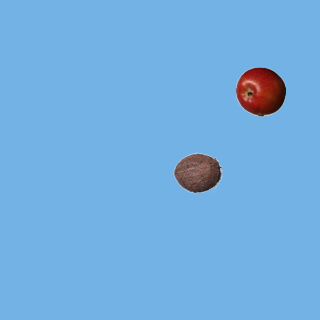Apple Braeburn: (235, 66, 285, 116)
Cocos: (172, 147, 222, 197)
